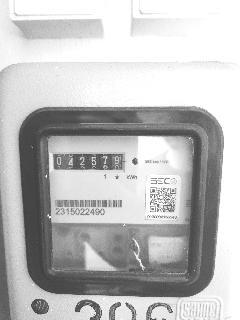1: (57, 157, 61, 165)
3: (80, 157, 84, 165)
5: (69, 158, 73, 166)
6: (92, 157, 96, 165)
8: (103, 156, 107, 164)
:: (115, 157, 119, 164)
